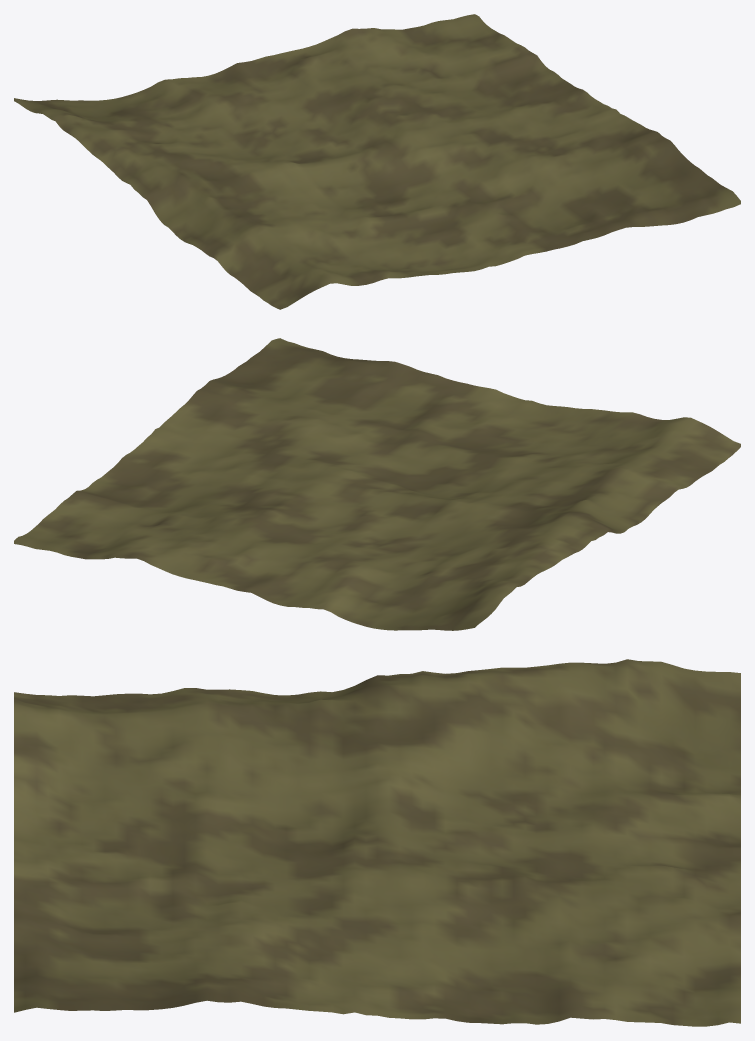
File: land_f_00_03.glb
3 renders of one model, top to bottom at view 1: azimuth 30°, elevation 25°; view 2: azimuth 150°, elevation 25°; view 3: azimuth 270°, elevation 25°, orthographic. The views are drawn at different scales.
Parts seen in each view (by area): view 1: land_f_00_03; view 2: land_f_00_03; view 3: land_f_00_03.
Boxes of the visible parts, bbox=[...] form: land_f_00_03: bbox=[14, 14, 740, 309]; land_f_00_03: bbox=[14, 338, 740, 630]; land_f_00_03: bbox=[14, 659, 740, 1026].
Size of the model in its own units: 3840 by 352 by 3840.
